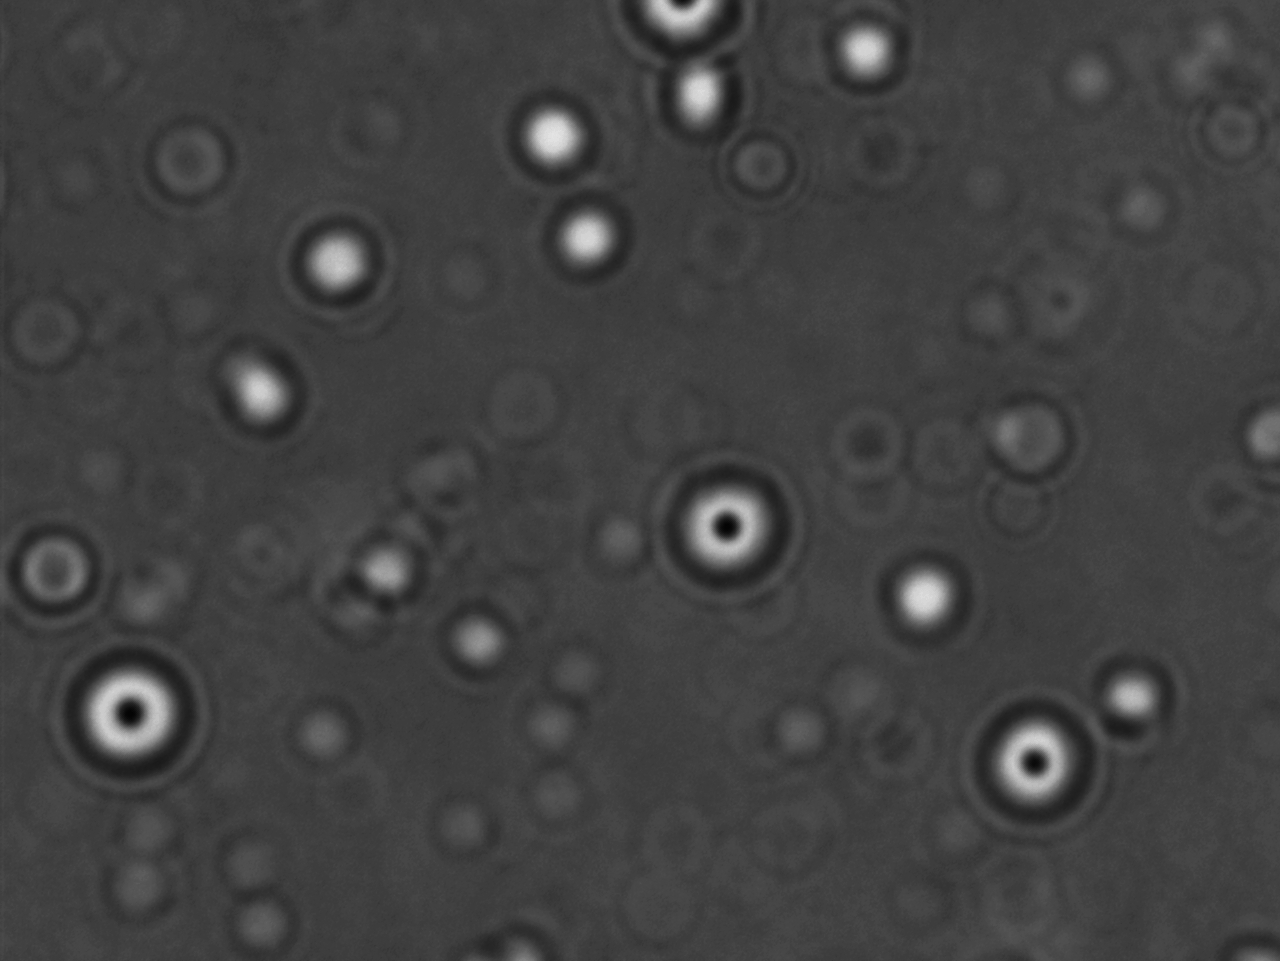depth:24: (65, 643, 201, 787), (971, 692, 1112, 830), (660, 455, 801, 588)
